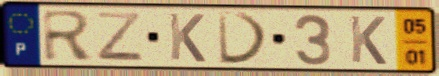3: (293, 12, 332, 67)
D: (215, 10, 272, 66)
K: (347, 13, 389, 67), (166, 11, 208, 64)
R: (40, 8, 97, 63)
Z: (94, 10, 146, 63)
